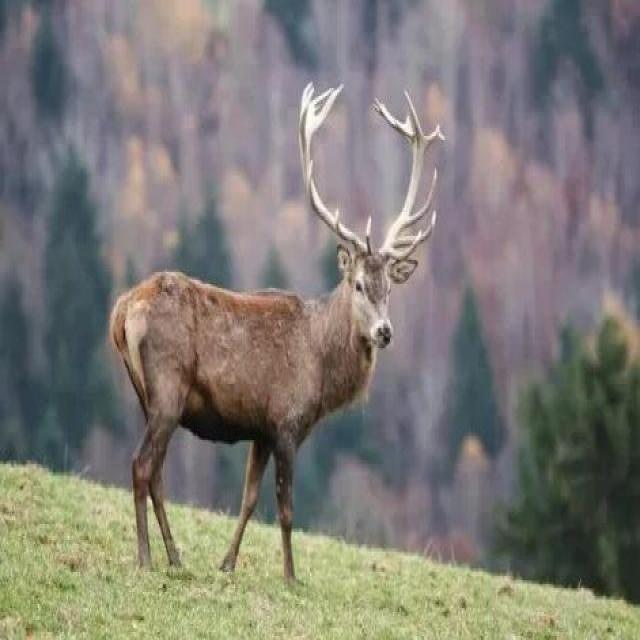deer: (105, 118, 460, 614)
